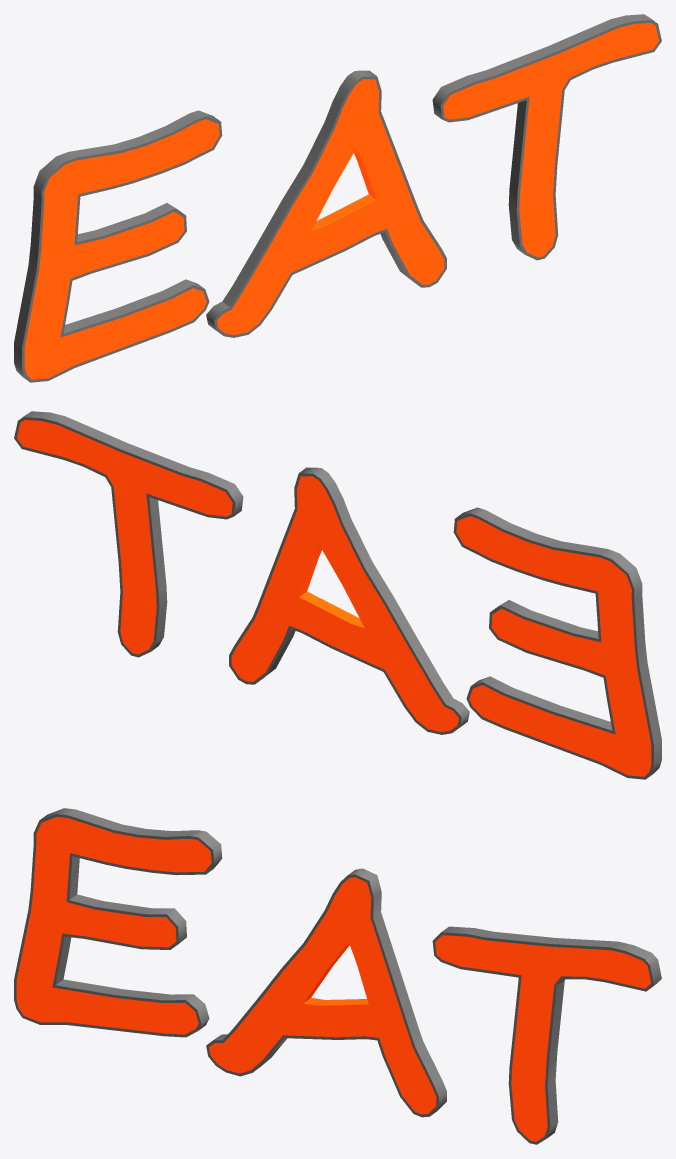
Rendered from EAT_Sign.fbx.
The picture shows the model from 3 angles, top to bottom: view 1: azimuth 30°, elevation 25°; view 2: azimuth 150°, elevation 25°; view 3: azimuth 330°, elevation 25°; orthographic projection.
Parts seen in each view (by area): view 1: EAT_Sign; view 2: EAT_Sign; view 3: EAT_Sign.
Part boxes in pixels (x1,y1,x2,y2): EAT_Sign: (14, 14, 661, 382); EAT_Sign: (14, 411, 661, 779); EAT_Sign: (14, 808, 661, 1144).
Bounding box in the file's own units: 247 × 84.76 × 5.31.
